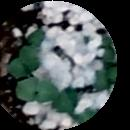Basil: (15, 82, 55, 102), (9, 49, 34, 78), (95, 64, 119, 91), (56, 88, 73, 115)
